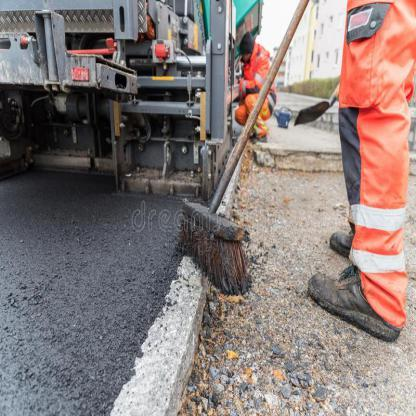bota: (304, 268, 401, 346), (327, 229, 357, 261)
